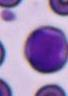L: (22, 26, 68, 74)
